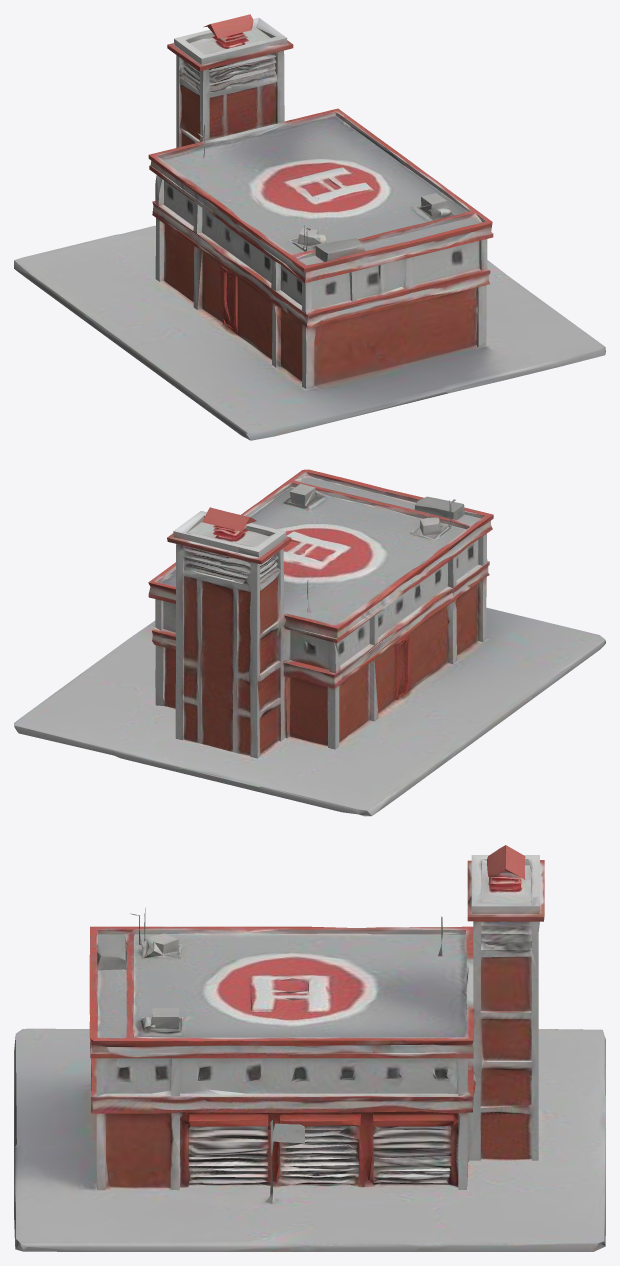
File: predio_bombeiros.glb
3 views of the same model, one above another, from view 1: azimuth 30°, elevation 25°; view 2: azimuth 150°, elevation 25°; view 3: azimuth 270°, elevation 25° (orthographic). The views are drawn at different scales.
Visible parts, largest first — view 1: tripo_node_2e625de5-a2b8-48f9-adef-ad96588e72e2; view 2: tripo_node_2e625de5-a2b8-48f9-adef-ad96588e72e2; view 3: tripo_node_2e625de5-a2b8-48f9-adef-ad96588e72e2.
Part boxes in pixels (left/top/right/bottom): tripo_node_2e625de5-a2b8-48f9-adef-ad96588e72e2: left=14, top=14, right=605, bottom=440; tripo_node_2e625de5-a2b8-48f9-adef-ad96588e72e2: left=14, top=469, right=605, bottom=816; tripo_node_2e625de5-a2b8-48f9-adef-ad96588e72e2: left=14, top=845, right=605, bottom=1251.
Size of the model in its own units: 0.8641 by 0.5352 by 1.
1 material, 1 textured.
